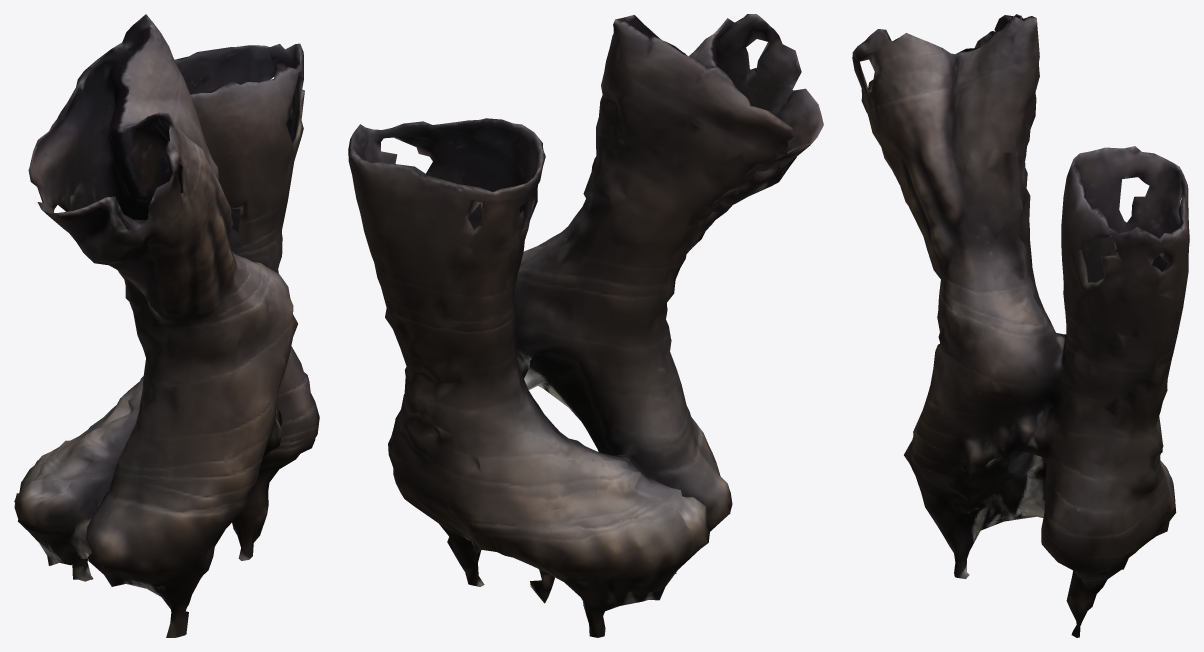
File: feetFinished.fbx
3 views of the same model, side by side, from view 1: azimuth 30°, elevation 25°; view 2: azimuth 150°, elevation 25°; view 3: azimuth 270°, elevation 25° (orthographic). The views are drawn at different scales.
Visible parts, largest first — view 1: feet; view 2: feet; view 3: feet.
Part boxes in pixels (<box>): feet: <box>14,14,319,637</box>; feet: <box>348,14,823,637</box>; feet: <box>852,14,1189,637</box>.
Bounding box in the file's own units: 6.91 × 10.7 × 5.84.
1 material, 1 textured.
